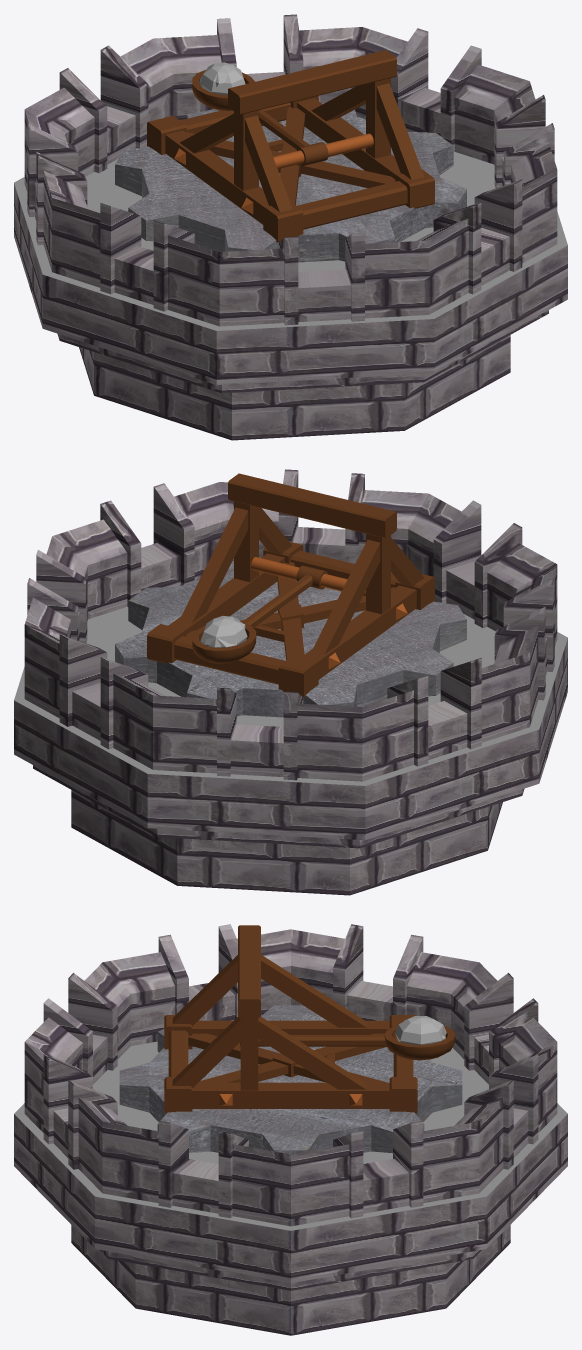
File: KatapultBig3.fbx
3 views of the same model, one above another, from view 1: azimuth 30°, elevation 25°; view 2: azimuth 150°, elevation 25°; view 3: azimuth 270°, elevation 25° (orthographic). The views are drawn at different scales.
Visible parts, largest first — view 1: CT_Base_Mesh, Katapult1, Zahnrad, Arm, Stein1; view 2: CT_Base_Mesh, Katapult1, Zahnrad, Arm, Stein1; view 3: CT_Base_Mesh, Katapult1, Zahnrad, Arm, Stein1.
Boxes of the visible parts, bbox=[...] form: CT_Base_Mesh: bbox=[14, 14, 567, 440]; Katapult1: bbox=[147, 50, 434, 242]; Zahnrad: bbox=[115, 102, 466, 262]; Arm: bbox=[192, 70, 373, 169]; Stein1: bbox=[200, 62, 245, 94]; CT_Base_Mesh: bbox=[14, 469, 567, 895]; Katapult1: bbox=[147, 473, 434, 697]; Zahnrad: bbox=[115, 557, 466, 717]; Arm: bbox=[192, 557, 365, 663]; Stein1: bbox=[200, 616, 247, 647]; CT_Base_Mesh: bbox=[14, 924, 567, 1335]; Katapult1: bbox=[164, 925, 417, 1113]; Zahnrad: bbox=[119, 1005, 462, 1154]; Arm: bbox=[240, 1025, 455, 1060]; Stein1: bbox=[395, 1016, 446, 1044].
Size of the model in its own units: 76.75 by 42.92 by 76.75.
Materials: 6 (2 with a texture image).
